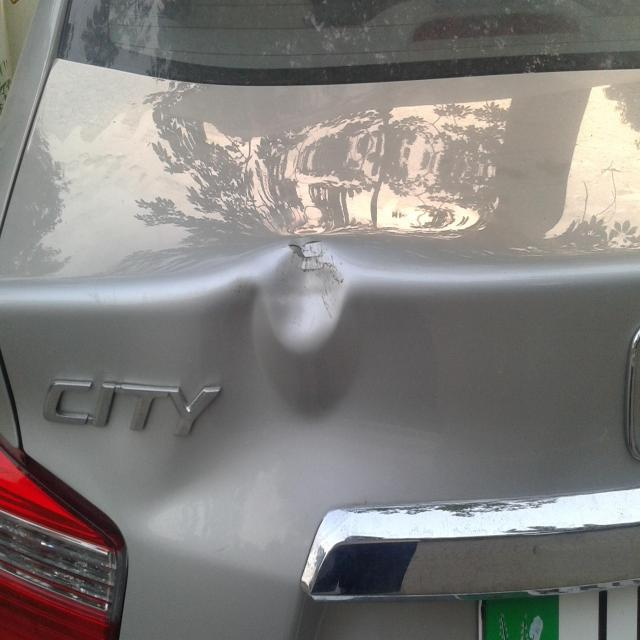dent: (144, 239, 448, 583)
